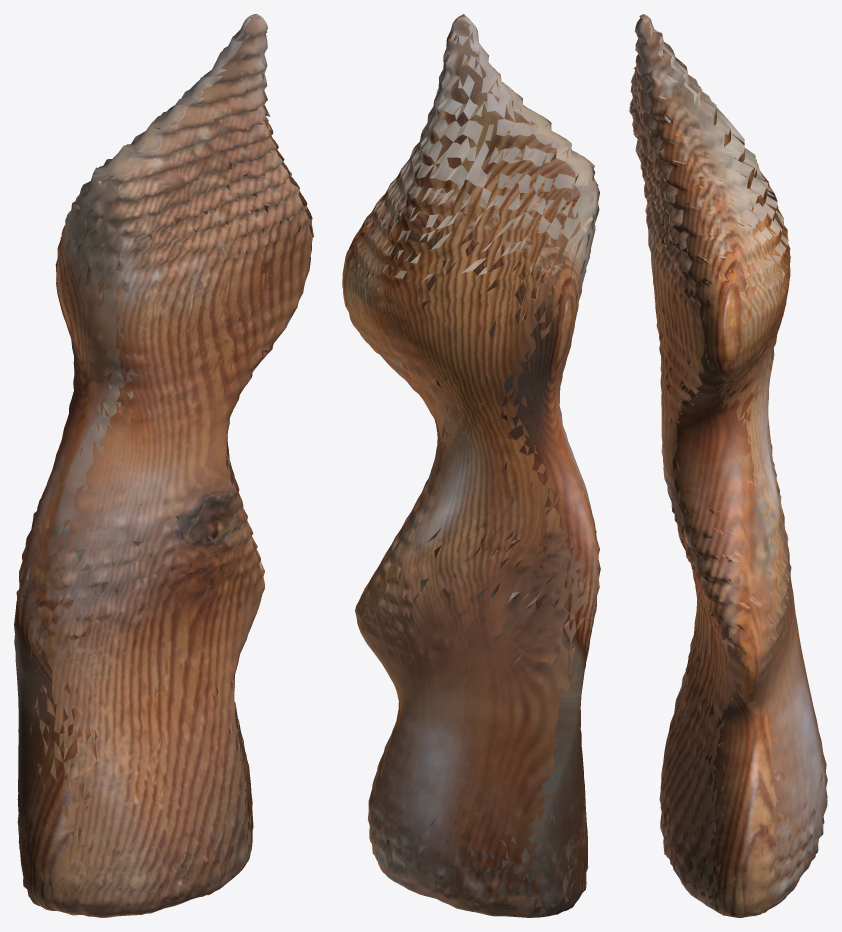
File: hy3d-madera.glb
The picture shows the model from 3 angles, left to right: view 1: azimuth 30°, elevation 25°; view 2: azimuth 150°, elevation 25°; view 3: azimuth 270°, elevation 25°; orthographic projection. The views are drawn at different scales.
Visible parts, largest first — view 1: world; view 2: world; view 3: world.
Boxes of the visible parts, x1,y1,x2,y2 form: world: (14,14,313,917); world: (342,14,600,917); world: (629,14,827,917).
Size of the model in its own units: 0.0979 by 0.3 by 0.0607.
Materials: 1 (1 with a texture image).
